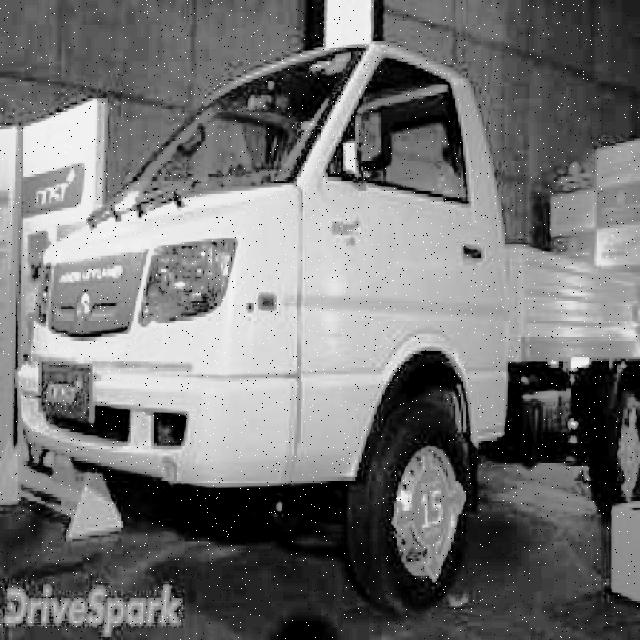LCV: (28, 31, 540, 542)
